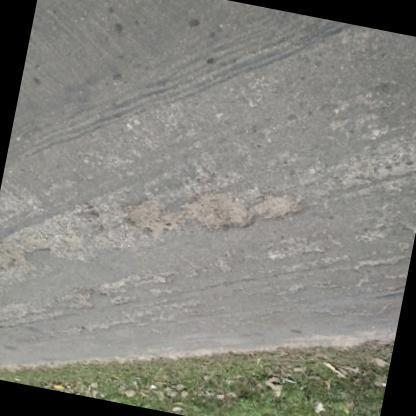pothole: (0, 206, 97, 286), (178, 188, 308, 230), (338, 146, 416, 190), (124, 194, 170, 240)
